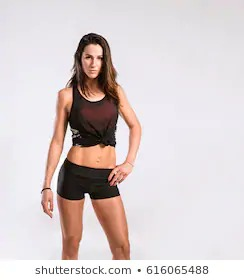C_tank top: (64, 75, 123, 153)
